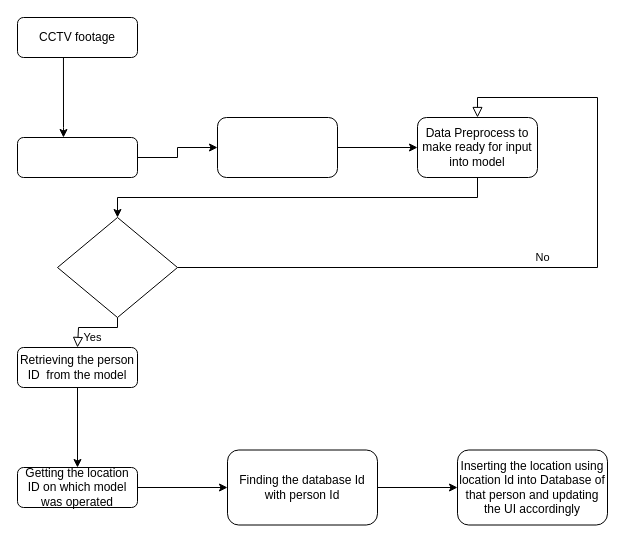
Some shapes in this 625 by 543 pixel diagram are drawn without their labels. Here are the shapes that lost their labels. From the top down, the box of each, then its label:
(16, 136, 138, 178): Receiving CCTV stream
(216, 116, 338, 178): Tracking each stream and generating ID for geolocation mapping
(56, 216, 178, 318): MODEL (Individual from database found or not)
